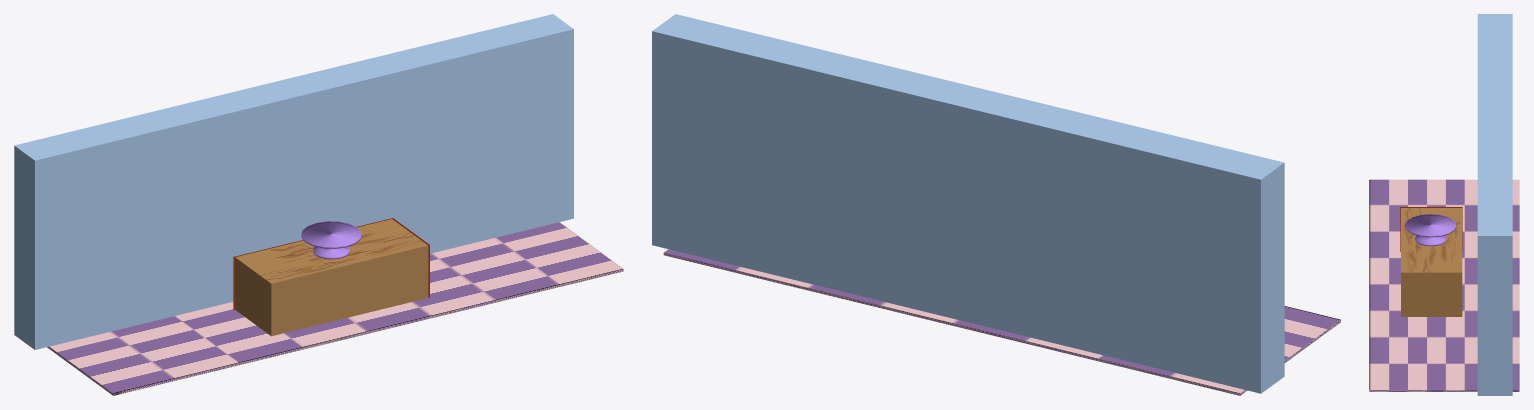
The model's file is Cenario montagem bolo.glb.
The picture shows the model from 3 angles, left to right: view 1: azimuth 30°, elevation 25°; view 2: azimuth 150°, elevation 25°; view 3: azimuth 270°, elevation 25°; orthographic projection. The views are drawn at different scales.
Parts seen in each view (by area): view 1: parede.001, chão.001, Bancada.001, apoio torta holandesa.003; view 2: parede.001, chão.001; view 3: chão.001, parede.001, Bancada.001, apoio torta holandesa.003.
Part boxes in pixels (x1,y1,x2,y2): parede.001: [14, 14, 573, 349]; chão.001: [47, 222, 623, 395]; Bancada.001: [233, 218, 429, 336]; apoio torta holandesa.003: [301, 221, 361, 259]; parede.001: [652, 14, 1284, 393]; chão.001: [663, 249, 1340, 395]; chão.001: [1369, 179, 1519, 391]; parede.001: [1477, 14, 1512, 395]; Bancada.001: [1400, 207, 1462, 316]; apoio torta holandesa.003: [1405, 214, 1456, 246].
Bounding box in the file's own units: 8.44 × 2.87 × 2.41.
6 materials, 2 textured.
